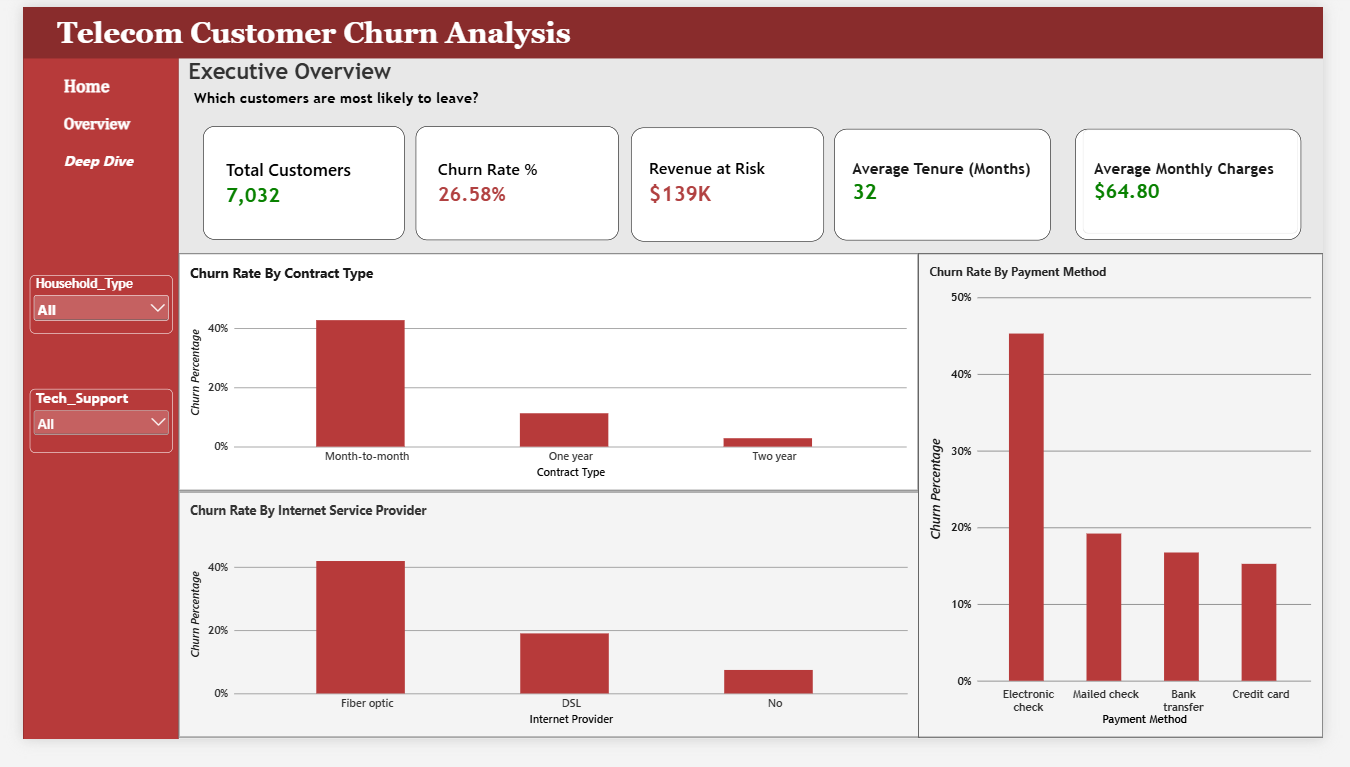

The dashboard page shown, as its layout file describes it:
{"tool":"powerbi","page":{"name":"Overview","canvas":[1920,1080],"ordinal":1},"visuals":[{"type":"shape","box":[0,0,229.8,1363.8],"z":0},{"type":"textbox","box":[59.6,159.6,136.2,68.1],"z":1000},{"type":"textbox","box":[59.6,212.8,114.9,46.8],"z":2000},{"type":"cardVisual","fields":{"Data":["Telcom_Churn_Clean.Total Customers"]},"box":[266,176.6,297.5,167.5],"z":3000},{"type":"cardVisual","fields":{"Data":["Telcom_Churn_Clean.Churn Rate %"]},"box":[580.9,176.6,300,168.1],"z":4000},{"type":"shape","box":[0,0,1920,76],"z":5000},{"type":"cardVisual","fields":{"Data":["Telcom_Churn_Clean.Revenue at Risk"]},"box":[897.9,178.7,285.1,168.1],"z":6000},{"type":"cardVisual","fields":{"Data":["Avg(Telcom_Churn_Clean.Tenure)"]},"box":[1197.9,180.9,320,165],"z":7000},{"type":"cardVisual","fields":{"Data":["Avg(Telcom_Churn_Clean.Monthly_Charges)"]},"box":[1553.2,180.9,334,163.8],"z":8000},{"type":"textbox","box":[19,13.5,1021.4,62.3],"z":9000},{"type":"textbox","box":[196.7,76.6,532.7,45.3],"z":10000},{"type":"textbox","box":[246,122,610,38],"z":11000},{"type":"columnChart","title":"Churn Rate By Contract Type","fields":{"Category":["Telcom_Churn_Clean.Contract"],"Y":["Telcom_Churn_Clean.Churn Rate %"]},"box":[229.8,363.8,1092.5,350],"z":12000},{"type":"columnChart","title":"Churn Rate By Internet Service Provider","fields":{"Category":["Telcom_Churn_Clean.Internet_Service"],"Y":["Telcom_Churn_Clean.Churn Rate %"]},"box":[229.2,716.7,1093.8,362.5],"z":13000},{"type":"clusteredColumnChart","title":"Churn Rate By Payment Method","fields":{"Category":["Telcom_Churn_Clean.Payment_Method"],"Y":["Telcom_Churn_Clean.Churn Rate %"]},"box":[1322.9,364.6,597.9,714.6],"z":14000},{"type":"textbox","box":[59.6,102.1,136.2,40.4],"z":15000},{"type":"actionButton","box":[59.6,102.1,114.9,40.4],"z":16000},{"type":"actionButton","box":[34,142.6,161.7,51.1],"z":17000},{"type":"actionButton","box":[34,212.8,140.4,51.1],"z":18000},{"type":"slicer","fields":{"Values":["Telcom_Churn_Clean.Household_Type"]},"box":[10.8,395.6,211.3,86.7],"z":19000},{"type":"slicer","fields":{"Values":["Telcom_Churn_Clean.Tech_Support"]},"box":[10.8,563.5,211.3,94.8],"z":20000}]}

Visuals, with their boxes in screenshot pixels (x1, y1, x2, y2), scaled from the page's 1920x1080 canvas onto the 1350x767 screenshot:
shape: {"left": 0, "top": 0, "right": 162, "bottom": 766}
textbox: {"left": 42, "top": 113, "right": 138, "bottom": 162}
textbox: {"left": 42, "top": 151, "right": 123, "bottom": 184}
cardVisual - Telcom_Churn_Clean.Total Customers: {"left": 187, "top": 125, "right": 396, "bottom": 244}
cardVisual - Telcom_Churn_Clean.Churn Rate %: {"left": 408, "top": 125, "right": 619, "bottom": 245}
shape: {"left": 0, "top": 0, "right": 1349, "bottom": 54}
cardVisual - Telcom_Churn_Clean.Revenue at Risk: {"left": 631, "top": 127, "right": 832, "bottom": 246}
cardVisual - Avg(Telcom_Churn_Clean.Tenure): {"left": 842, "top": 128, "right": 1067, "bottom": 246}
cardVisual - Avg(Telcom_Churn_Clean.Monthly_Charges): {"left": 1092, "top": 128, "right": 1327, "bottom": 245}
textbox: {"left": 13, "top": 10, "right": 732, "bottom": 54}
textbox: {"left": 138, "top": 54, "right": 513, "bottom": 87}
textbox: {"left": 173, "top": 87, "right": 602, "bottom": 114}
"Churn Rate By Contract Type" columnChart: {"left": 162, "top": 258, "right": 930, "bottom": 507}
"Churn Rate By Internet Service Provider" columnChart: {"left": 161, "top": 509, "right": 930, "bottom": 766}
"Churn Rate By Payment Method" clusteredColumnChart: {"left": 930, "top": 259, "right": 1349, "bottom": 766}
textbox: {"left": 42, "top": 73, "right": 138, "bottom": 101}
actionButton: {"left": 42, "top": 73, "right": 123, "bottom": 101}
actionButton: {"left": 24, "top": 101, "right": 138, "bottom": 138}
actionButton: {"left": 24, "top": 151, "right": 123, "bottom": 187}
slicer - Telcom_Churn_Clean.Household_Type: {"left": 8, "top": 281, "right": 156, "bottom": 343}
slicer - Telcom_Churn_Clean.Tech_Support: {"left": 8, "top": 400, "right": 156, "bottom": 468}
